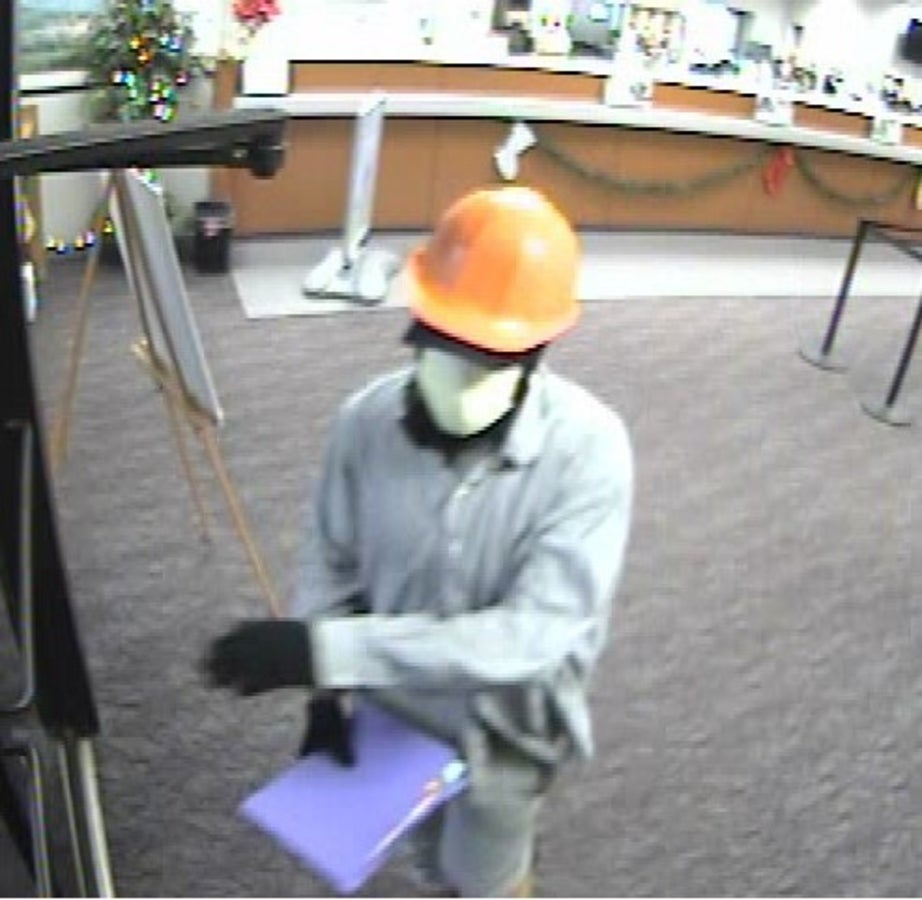helmet: (398, 172, 582, 331)
